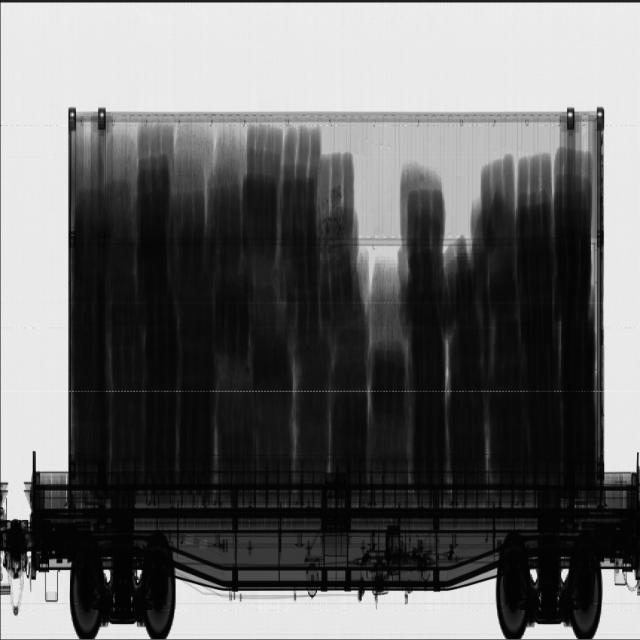clothes: (71, 125, 602, 475)
